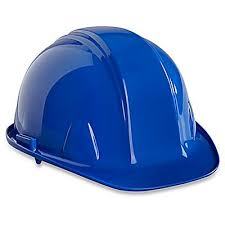Casco de seguridad: (9, 24, 221, 198)
